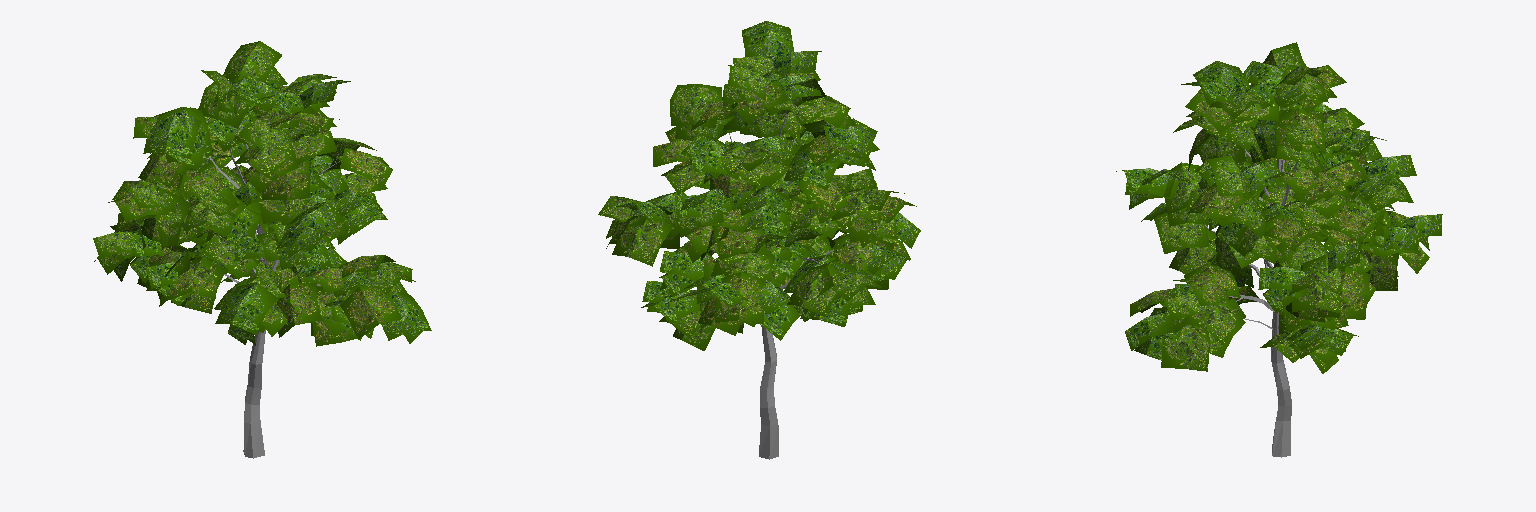
The picture shows the model from 3 angles: view 1: azimuth 30°, elevation 25°; view 2: azimuth 150°, elevation 25°; view 3: azimuth 270°, elevation 25°; orthographic projection.
Parts seen in each view (by area): view 1: polySurface1041, polySurface101; view 2: polySurface1041, polySurface101; view 3: polySurface1041, polySurface101.
Boxes of the visible parts, <box> form: polySurface1041: <box>93,41,431,346</box>; polySurface101: <box>141,123,341,458</box>; polySurface1041: <box>598,21,920,350</box>; polySurface101: <box>670,110,833,459</box>; polySurface1041: <box>1116,42,1442,373</box>; polySurface101: <box>1203,106,1297,457</box>.
Bounding box in the file's own units: 15.24 × 20.59 × 15.51.
Materials: 2 (1 with a texture image).